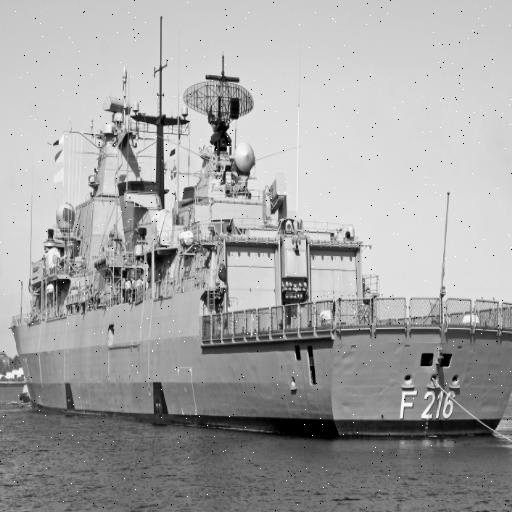Fragata: (7, 3, 512, 440)
